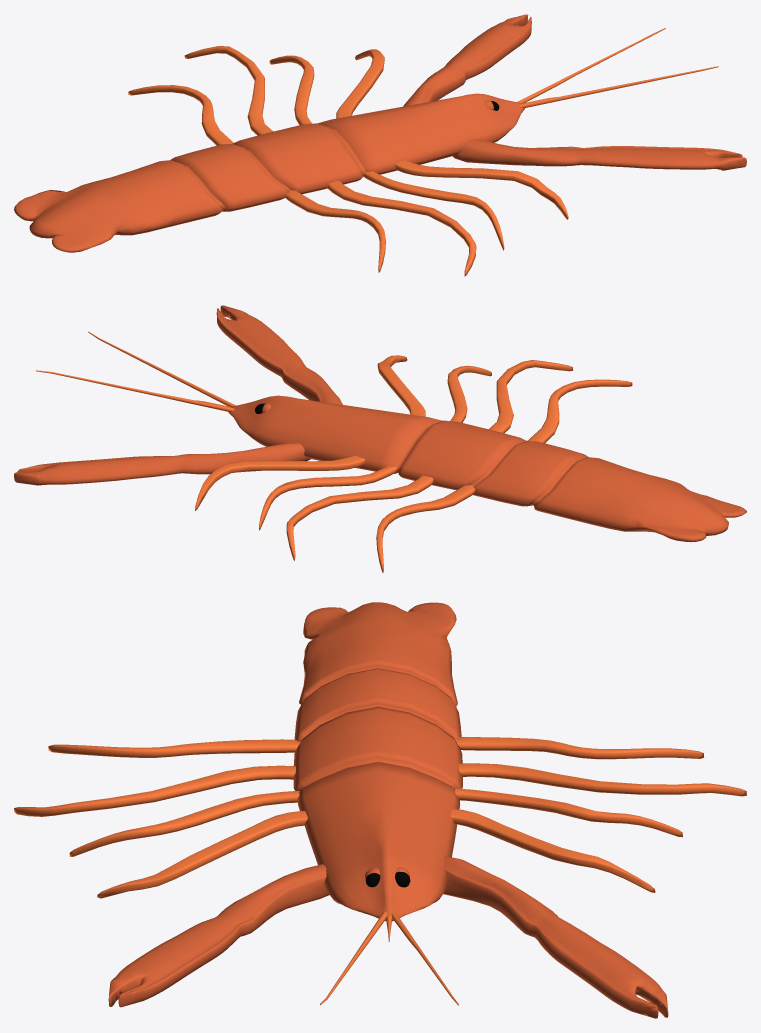
Rendered from animals-crayfish-057.glb.
3 renders of one model, top to bottom at view 1: azimuth 30°, elevation 25°; view 2: azimuth 150°, elevation 25°; view 3: azimuth 270°, elevation 25°, orthographic. The views are drawn at different scales.
Visible parts, largest first — view 1: Line003; view 2: Line003; view 3: Line003.
Boxes of the visible parts, x1,y1,x2,y2 form: Line003: [14, 14, 746, 276]; Line003: [14, 305, 746, 572]; Line003: [14, 602, 746, 1018].
Size of the model in its own units: 70.36 by 5.35 by 51.35.
